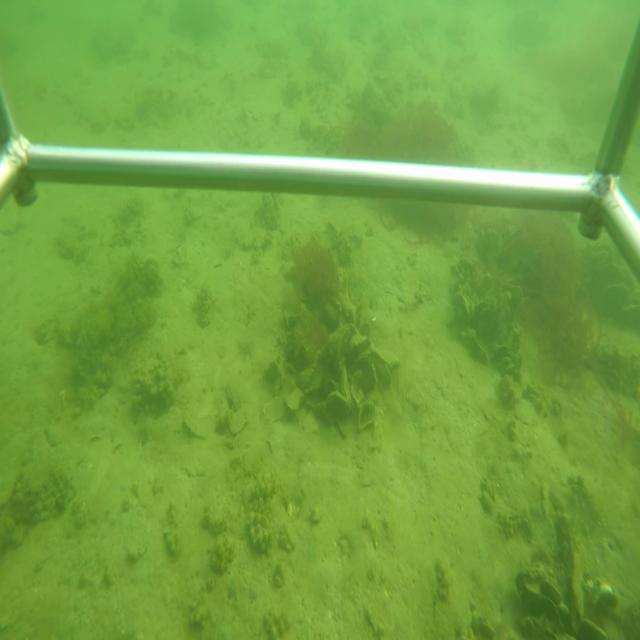Oyster-Closed: (325, 390, 352, 423), (340, 355, 354, 406)
Oyster-Indeterminate: (352, 356, 378, 401)
